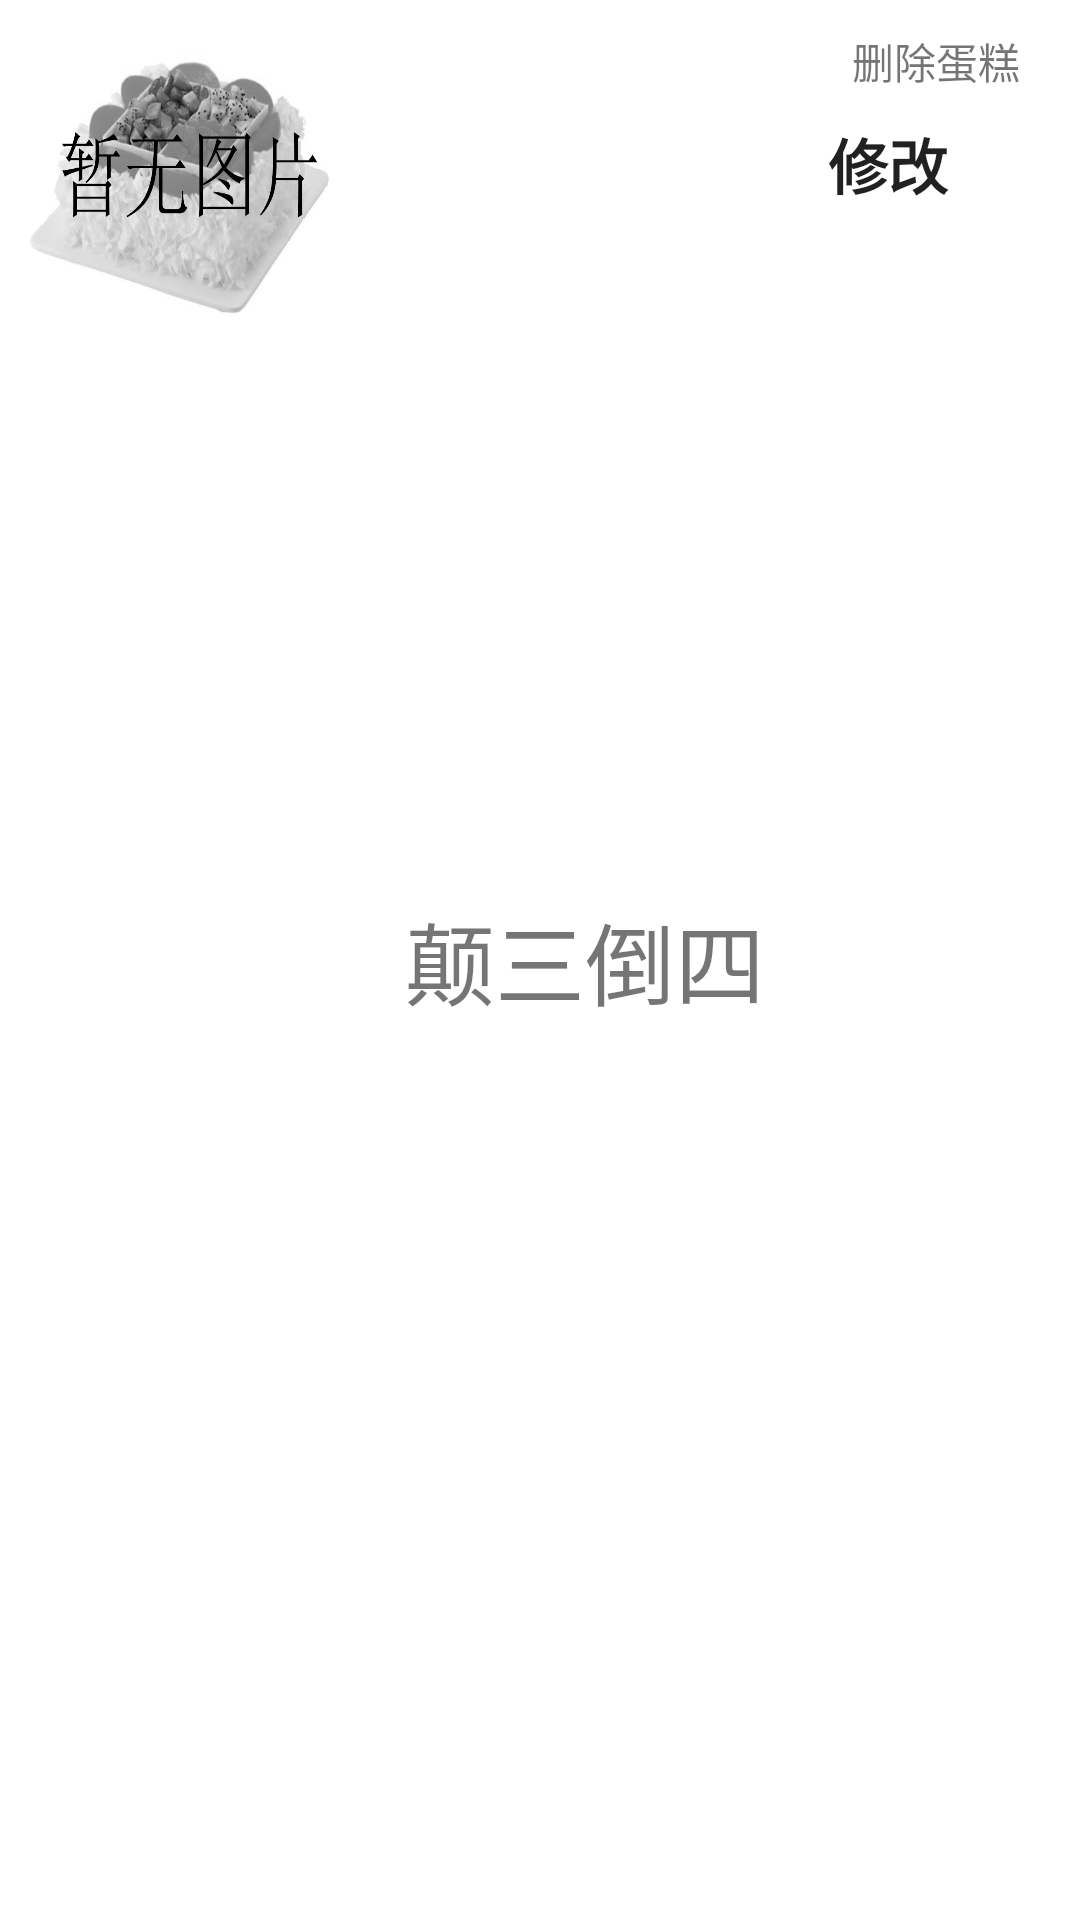

Icon bounding boxes for this 1080*1920 phone screenshot, format box(x1, y1, x2, y2):
cake: box(32, 62, 329, 313)
